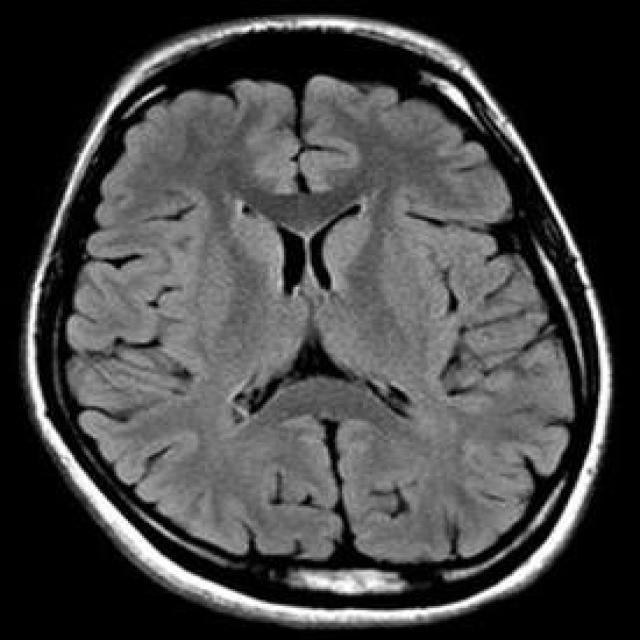notumor: (23, 17, 617, 631)
